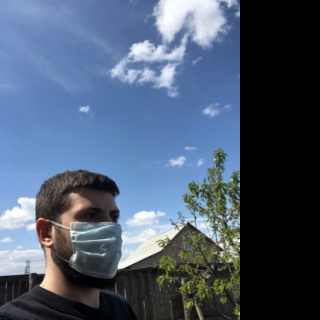with_mask: (66, 200, 123, 289)
